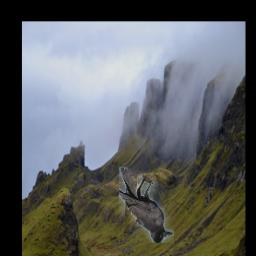Crow: (118, 168, 173, 244)
